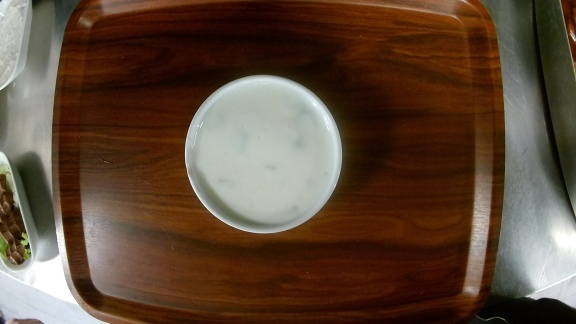cacik: (185, 76, 343, 235)
